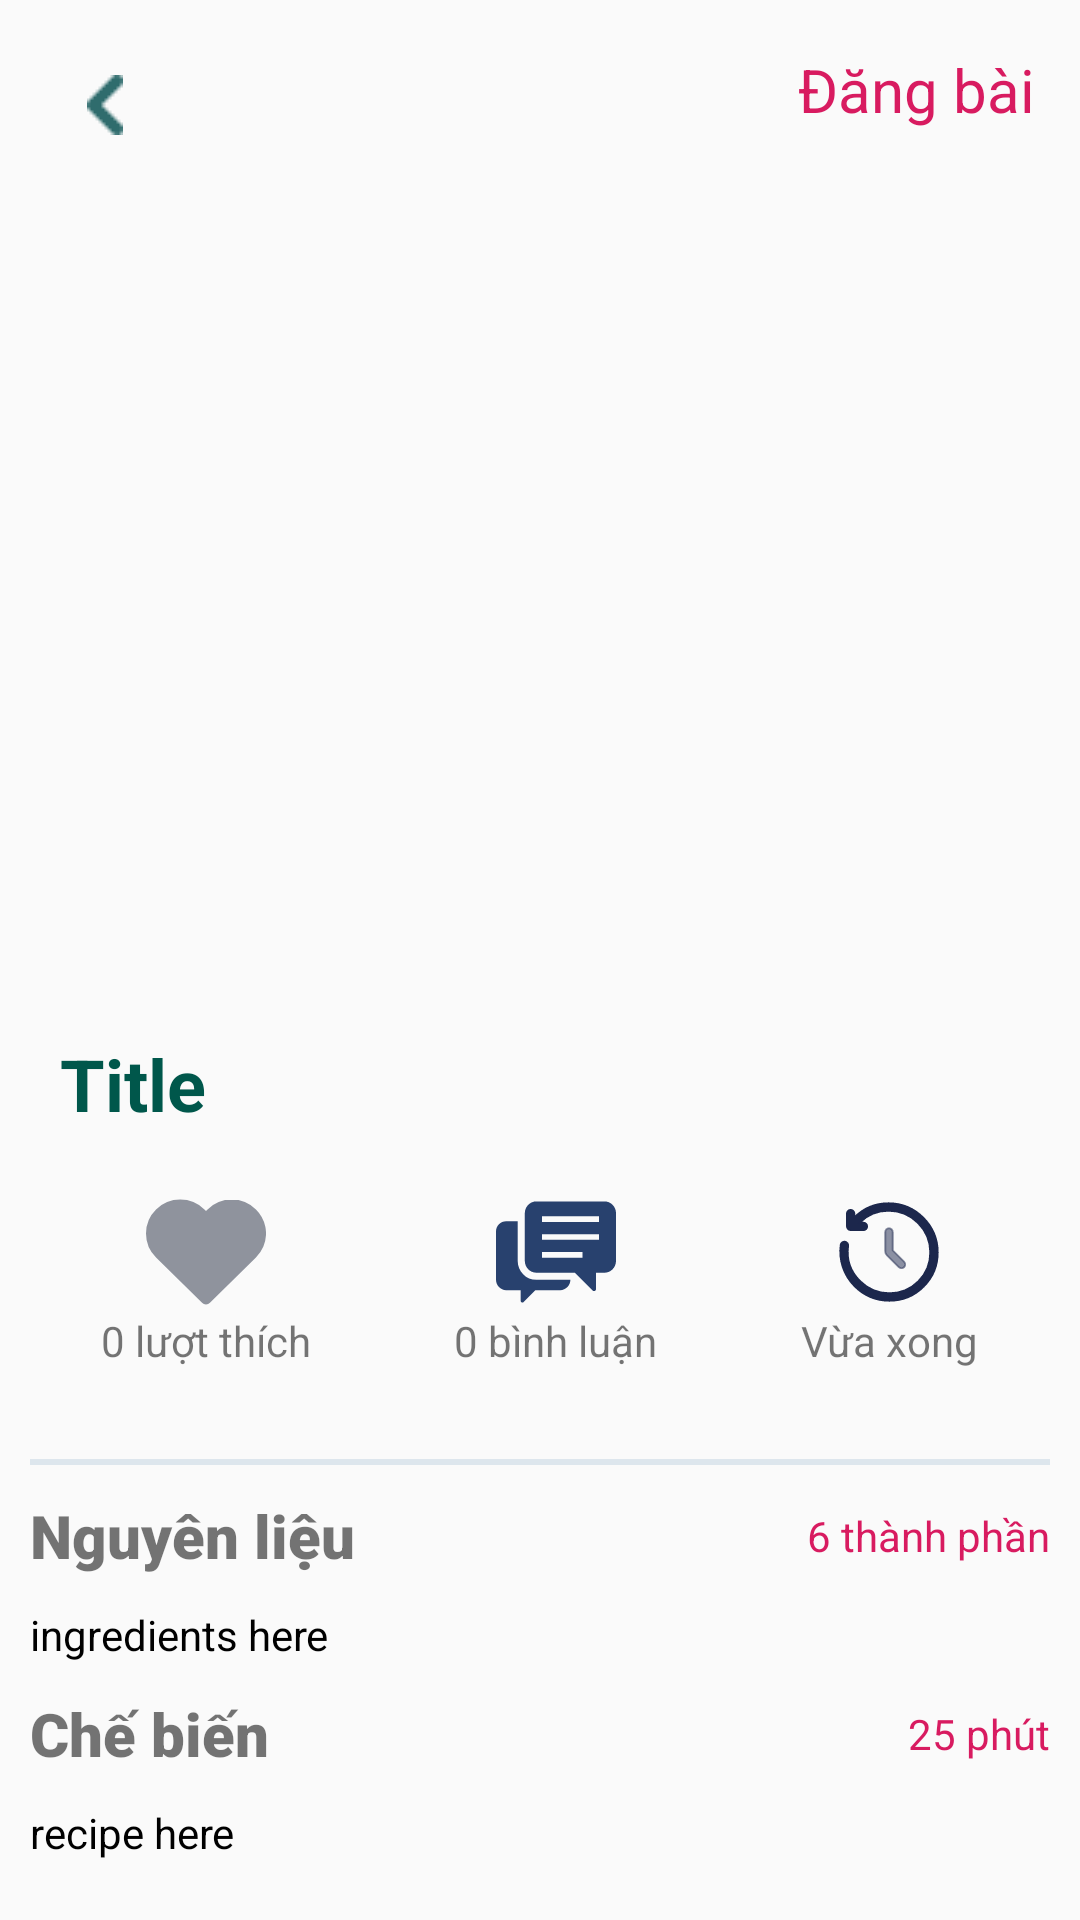

Where icons sit on this 1080w x 1920h app screen, as (x1, y1, x2, y2):
clock: (839, 1202, 939, 1302)
react: (146, 1199, 266, 1305)
